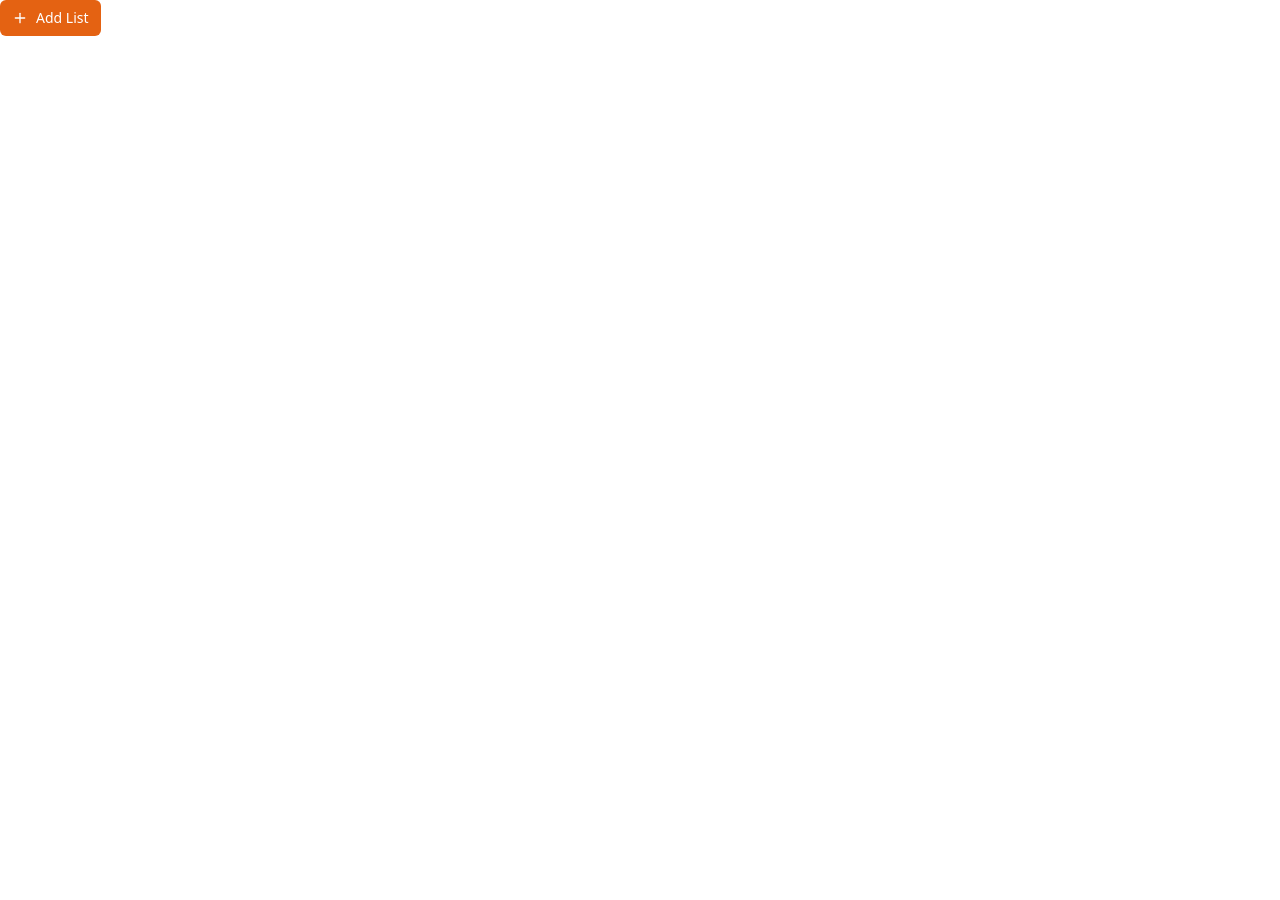
CreateListDialog › opens dialog when trigger button is clicked
This screenshot has width=1280, height=900.
Click the button "Add List" at (50, 18), box [0,0,100,36]
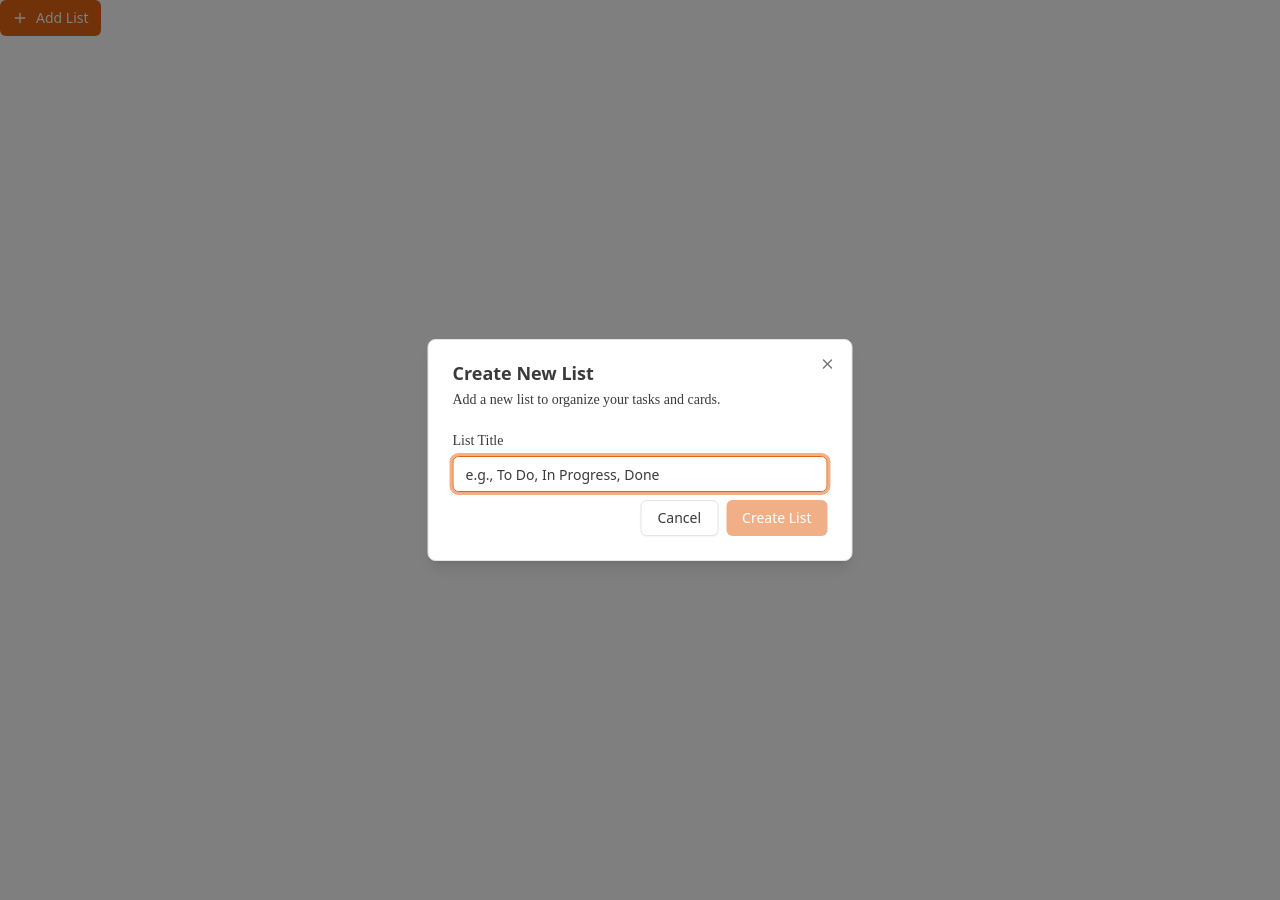
Check: the dialog is shown, box [428,339,852,561]
Check: the heading "Create New List" is shown, box [452,361,594,385]
Check: the text "Add a new list to organize your tasks and cards." is shown, box [452,392,720,407]
